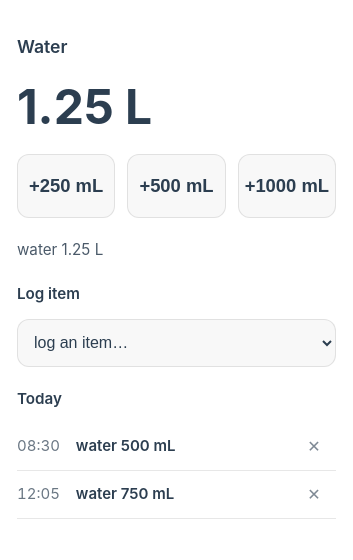
HomeView › posts the amount with the water metric id on quick-log and refreshes
Click the button "+250 mL". click: (66, 186)
box: x1=17 y1=154 x2=115 y2=218
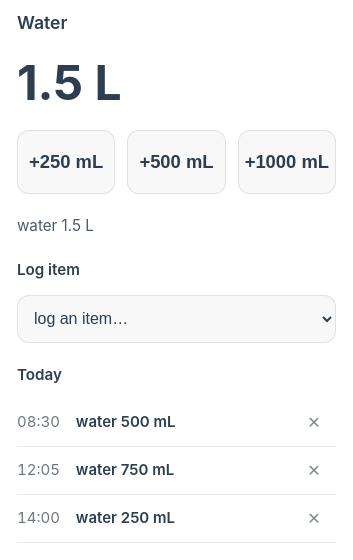
Expected: the text with test id "water-total" reads "1.5 L", x1=17 y1=53 x2=122 y2=112
Expected: the text "14:00" is shown, x1=17 y1=506 x2=60 y2=530
